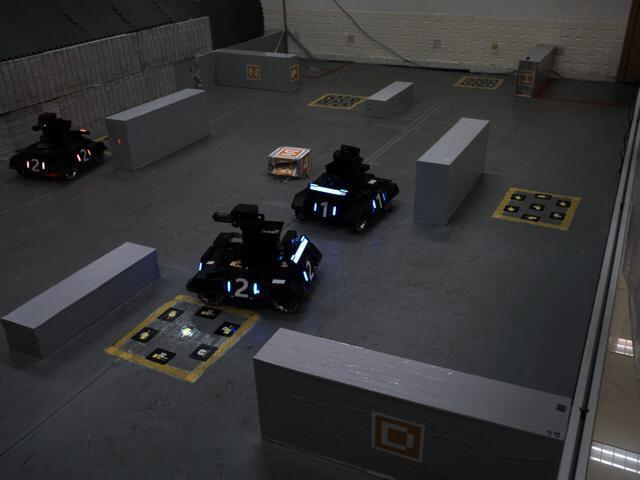armor: (222, 275, 263, 301), (310, 197, 339, 223), (298, 258, 322, 288), (368, 188, 390, 217), (71, 144, 97, 165), (23, 155, 47, 176)
